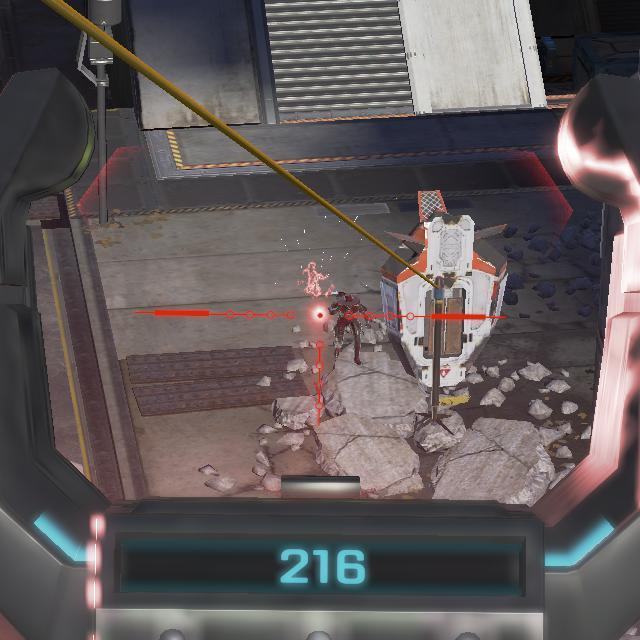avatar: (326, 289, 372, 367)
